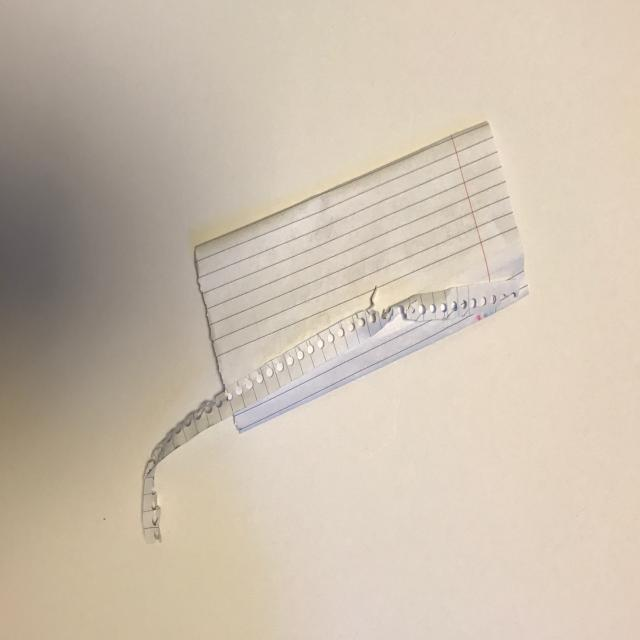paper: (142, 121, 530, 535)
